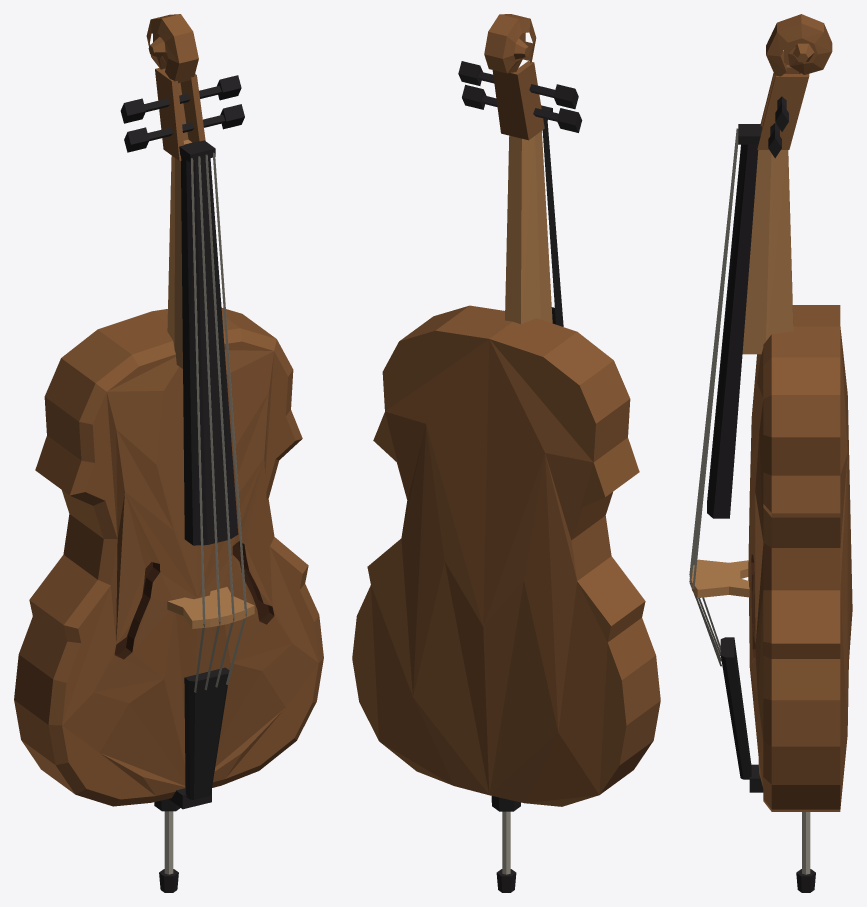
Rendered from cello-64a951.glb.
3 views of the same model, side by side, from view 1: azimuth 30°, elevation 25°; view 2: azimuth 150°, elevation 25°; view 3: azimuth 270°, elevation 25° (orthographic).
Parts seen in each view (by area): view 1: cello-body, cello-metal; view 2: cello-body; view 3: cello-body, cello-metal.
Boxes of the visible parts, x1=… form: cello-body: x1=14, y1=14, x2=323, y2=892; cello-metal: x1=164, y1=152, x2=246, y2=874; cello-body: x1=352, y1=14, x2=660, y2=892; cello-body: x1=691, y1=14, x2=852, y2=892; cello-metal: x1=689, y1=128, x2=810, y2=874.
Size of the model in its own units: 0.4152 by 1.26 by 0.2141.
